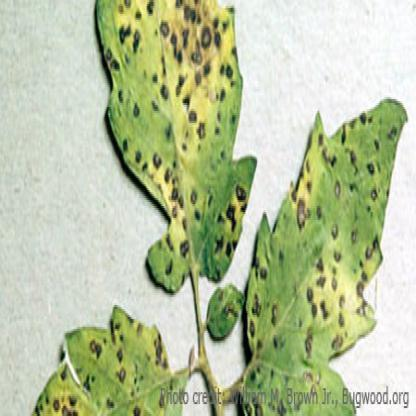tomato leaf bacterial spot: (243, 93, 410, 412), (88, 4, 258, 303), (30, 299, 178, 414)
